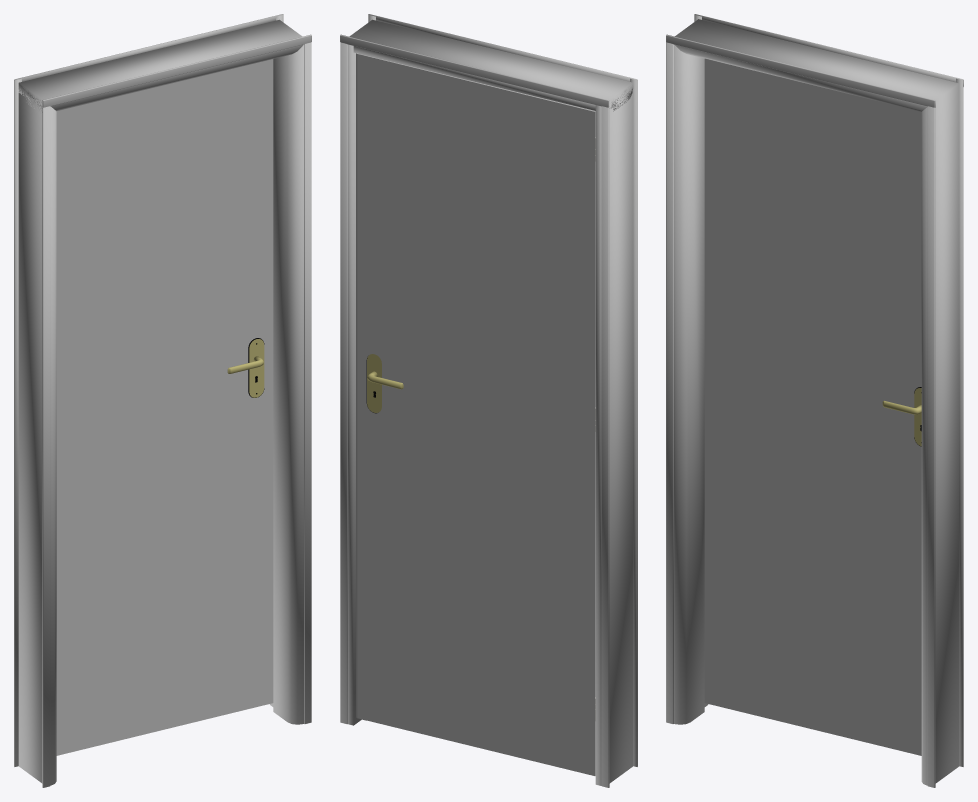
Rendered from porta.glb.
3 views of the same model, side by side, from view 1: azimuth 30°, elevation 25°; view 2: azimuth 150°, elevation 25°; view 3: azimuth 330°, elevation 25° (orthographic).
Parts seen in each view (by area): view 1: Cube.094_2, Cube.093_0; view 2: Cube.094_2, Cube.093_0; view 3: Cube.094_2, Cube.093_0.
Part boxes in pixels (box(x1,y1,x2,y2)): Cube.094_2: box(56, 59, 273, 755); Cube.093_0: box(14, 14, 311, 787); Cube.094_2: box(356, 53, 595, 775); Cube.093_0: box(340, 14, 637, 787); Cube.094_2: box(704, 58, 921, 755); Cube.093_0: box(666, 14, 963, 787).
Size of the model in its own units: 0.8669 by 2.12 by 0.1967.
4 materials, 1 textured.
